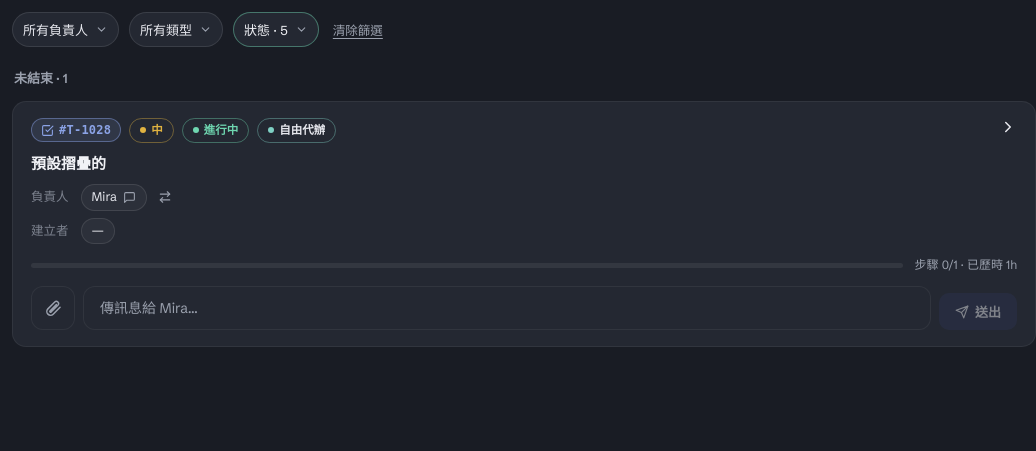
Test: TasksPage › cards are COLLAPSED by default; clicking the card reveals the workflow
Check: the text "步驟 0/1 · 已歷時 1h" is shown, box [915,256,1017,274]
Check: the text box with test id "task-msg-input" is shown, box [83,286,931,330]
Click the button with test id "task-card". click: (524, 332)
box: [12,100,1035,347]
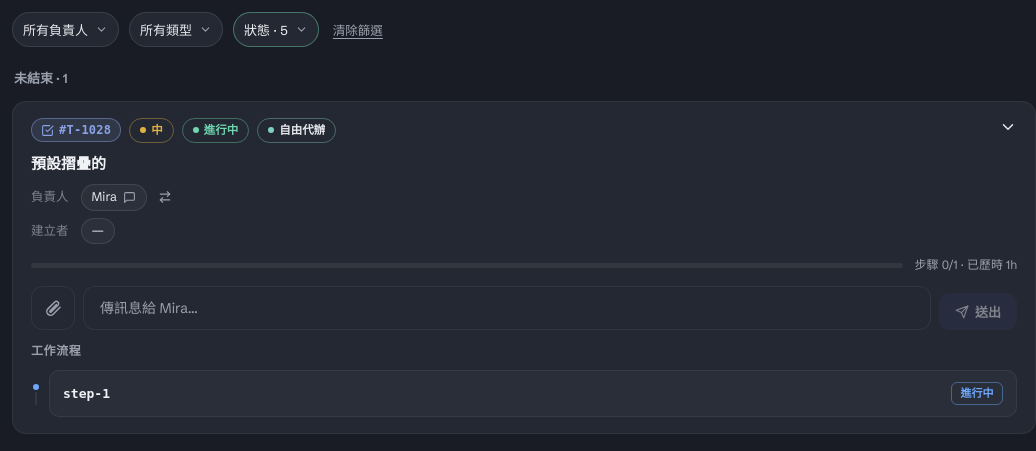
Check: the element with test id "task-step" is shown, box [49,370,1017,417]
Click the button with test id "task-card". click: (53, 114)
box: [12,100,1035,434]
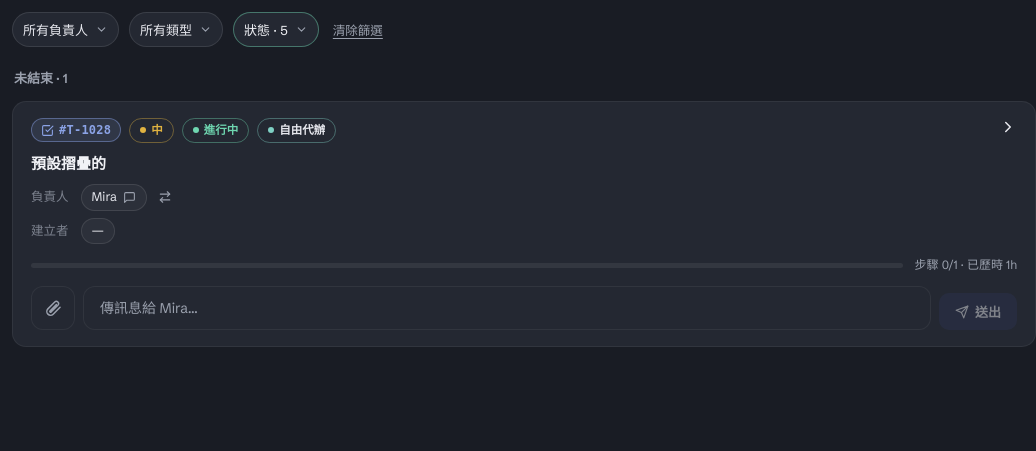
Check: the element with test id "task-step" is gone
